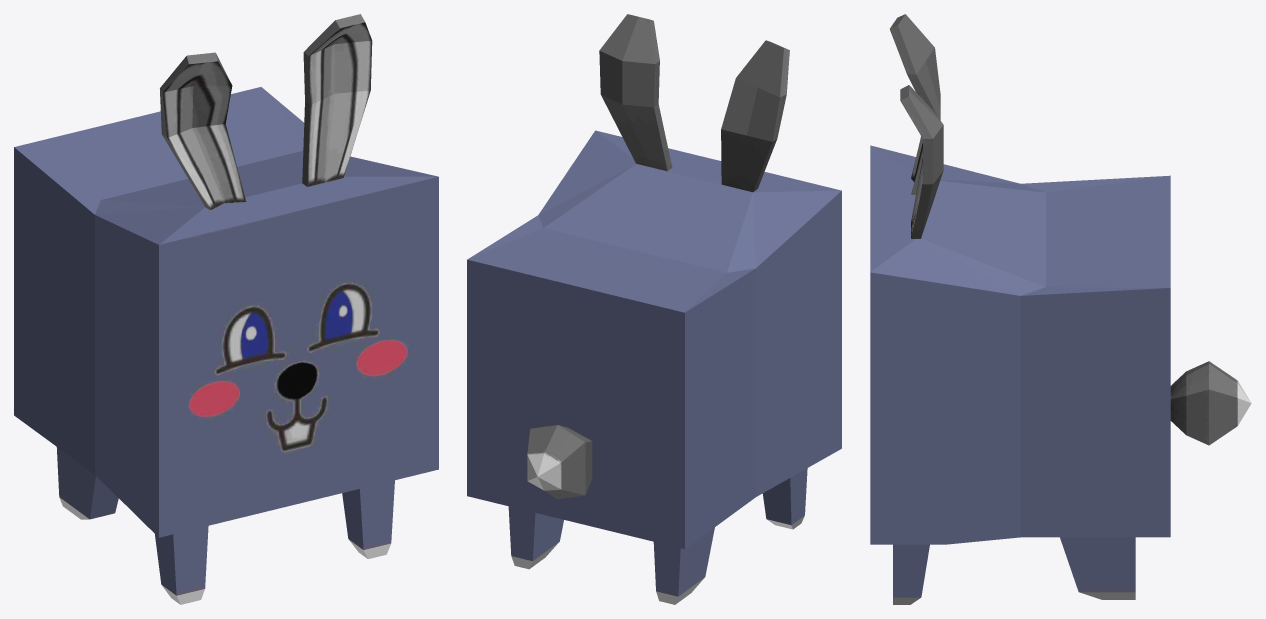
File: крол.fbx
3 renders of one model, left to right at view 1: azimuth 30°, elevation 25°; view 2: azimuth 150°, elevation 25°; view 3: azimuth 270°, elevation 25°, orthographic. The views are drawn at different scales.
Parts seen in each view (by area): view 1: крол; view 2: крол; view 3: крол.
Boxes of the visible parts, left/top/right/bottom form: крол: left=14, top=14, right=438, bottom=604; крол: left=467, top=14, right=841, bottom=604; крол: left=870, top=14, right=1251, bottom=604.
Bounding box in the file's own units: 27.66 × 51.11 × 35.1.
